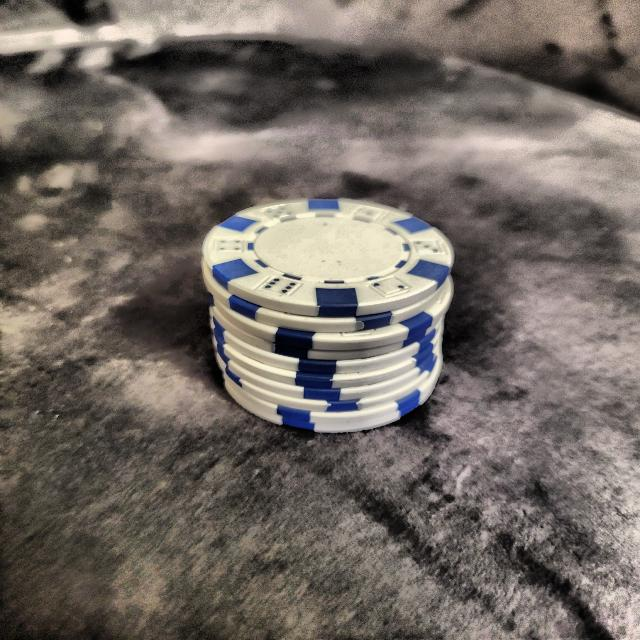Chip: (171, 180, 483, 438)
